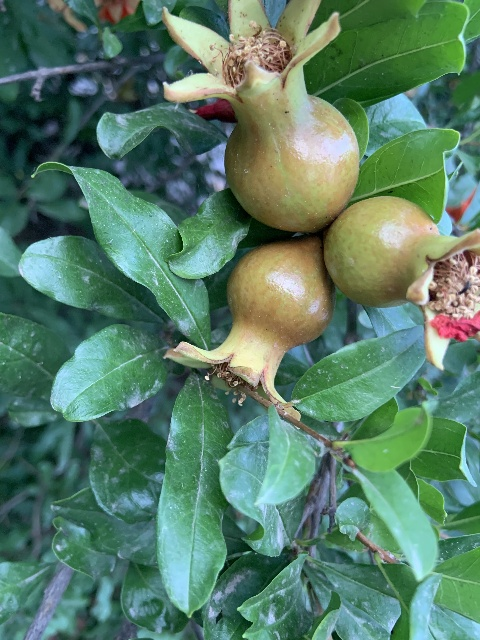early-fruit: (162, 1, 359, 235), (162, 238, 333, 413), (324, 194, 480, 369)
